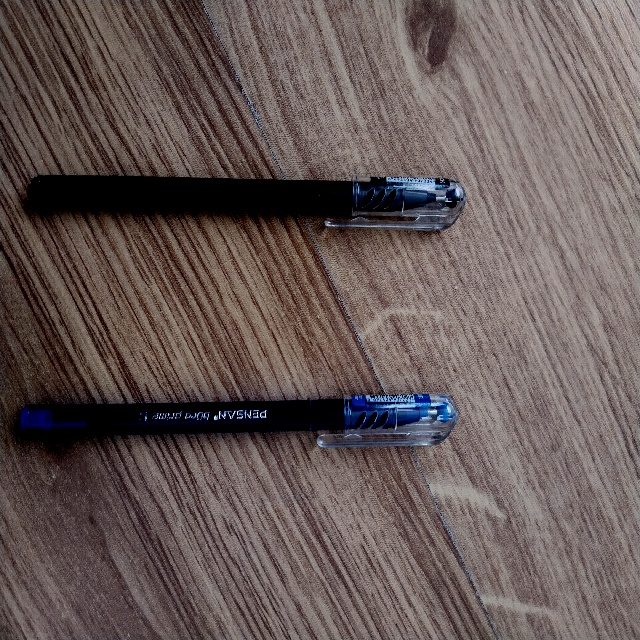pensan_mavi_tukenmez_kalem: (21, 394, 456, 446)
pensan_siyah_tukenmez_kalem: (28, 175, 465, 230)
